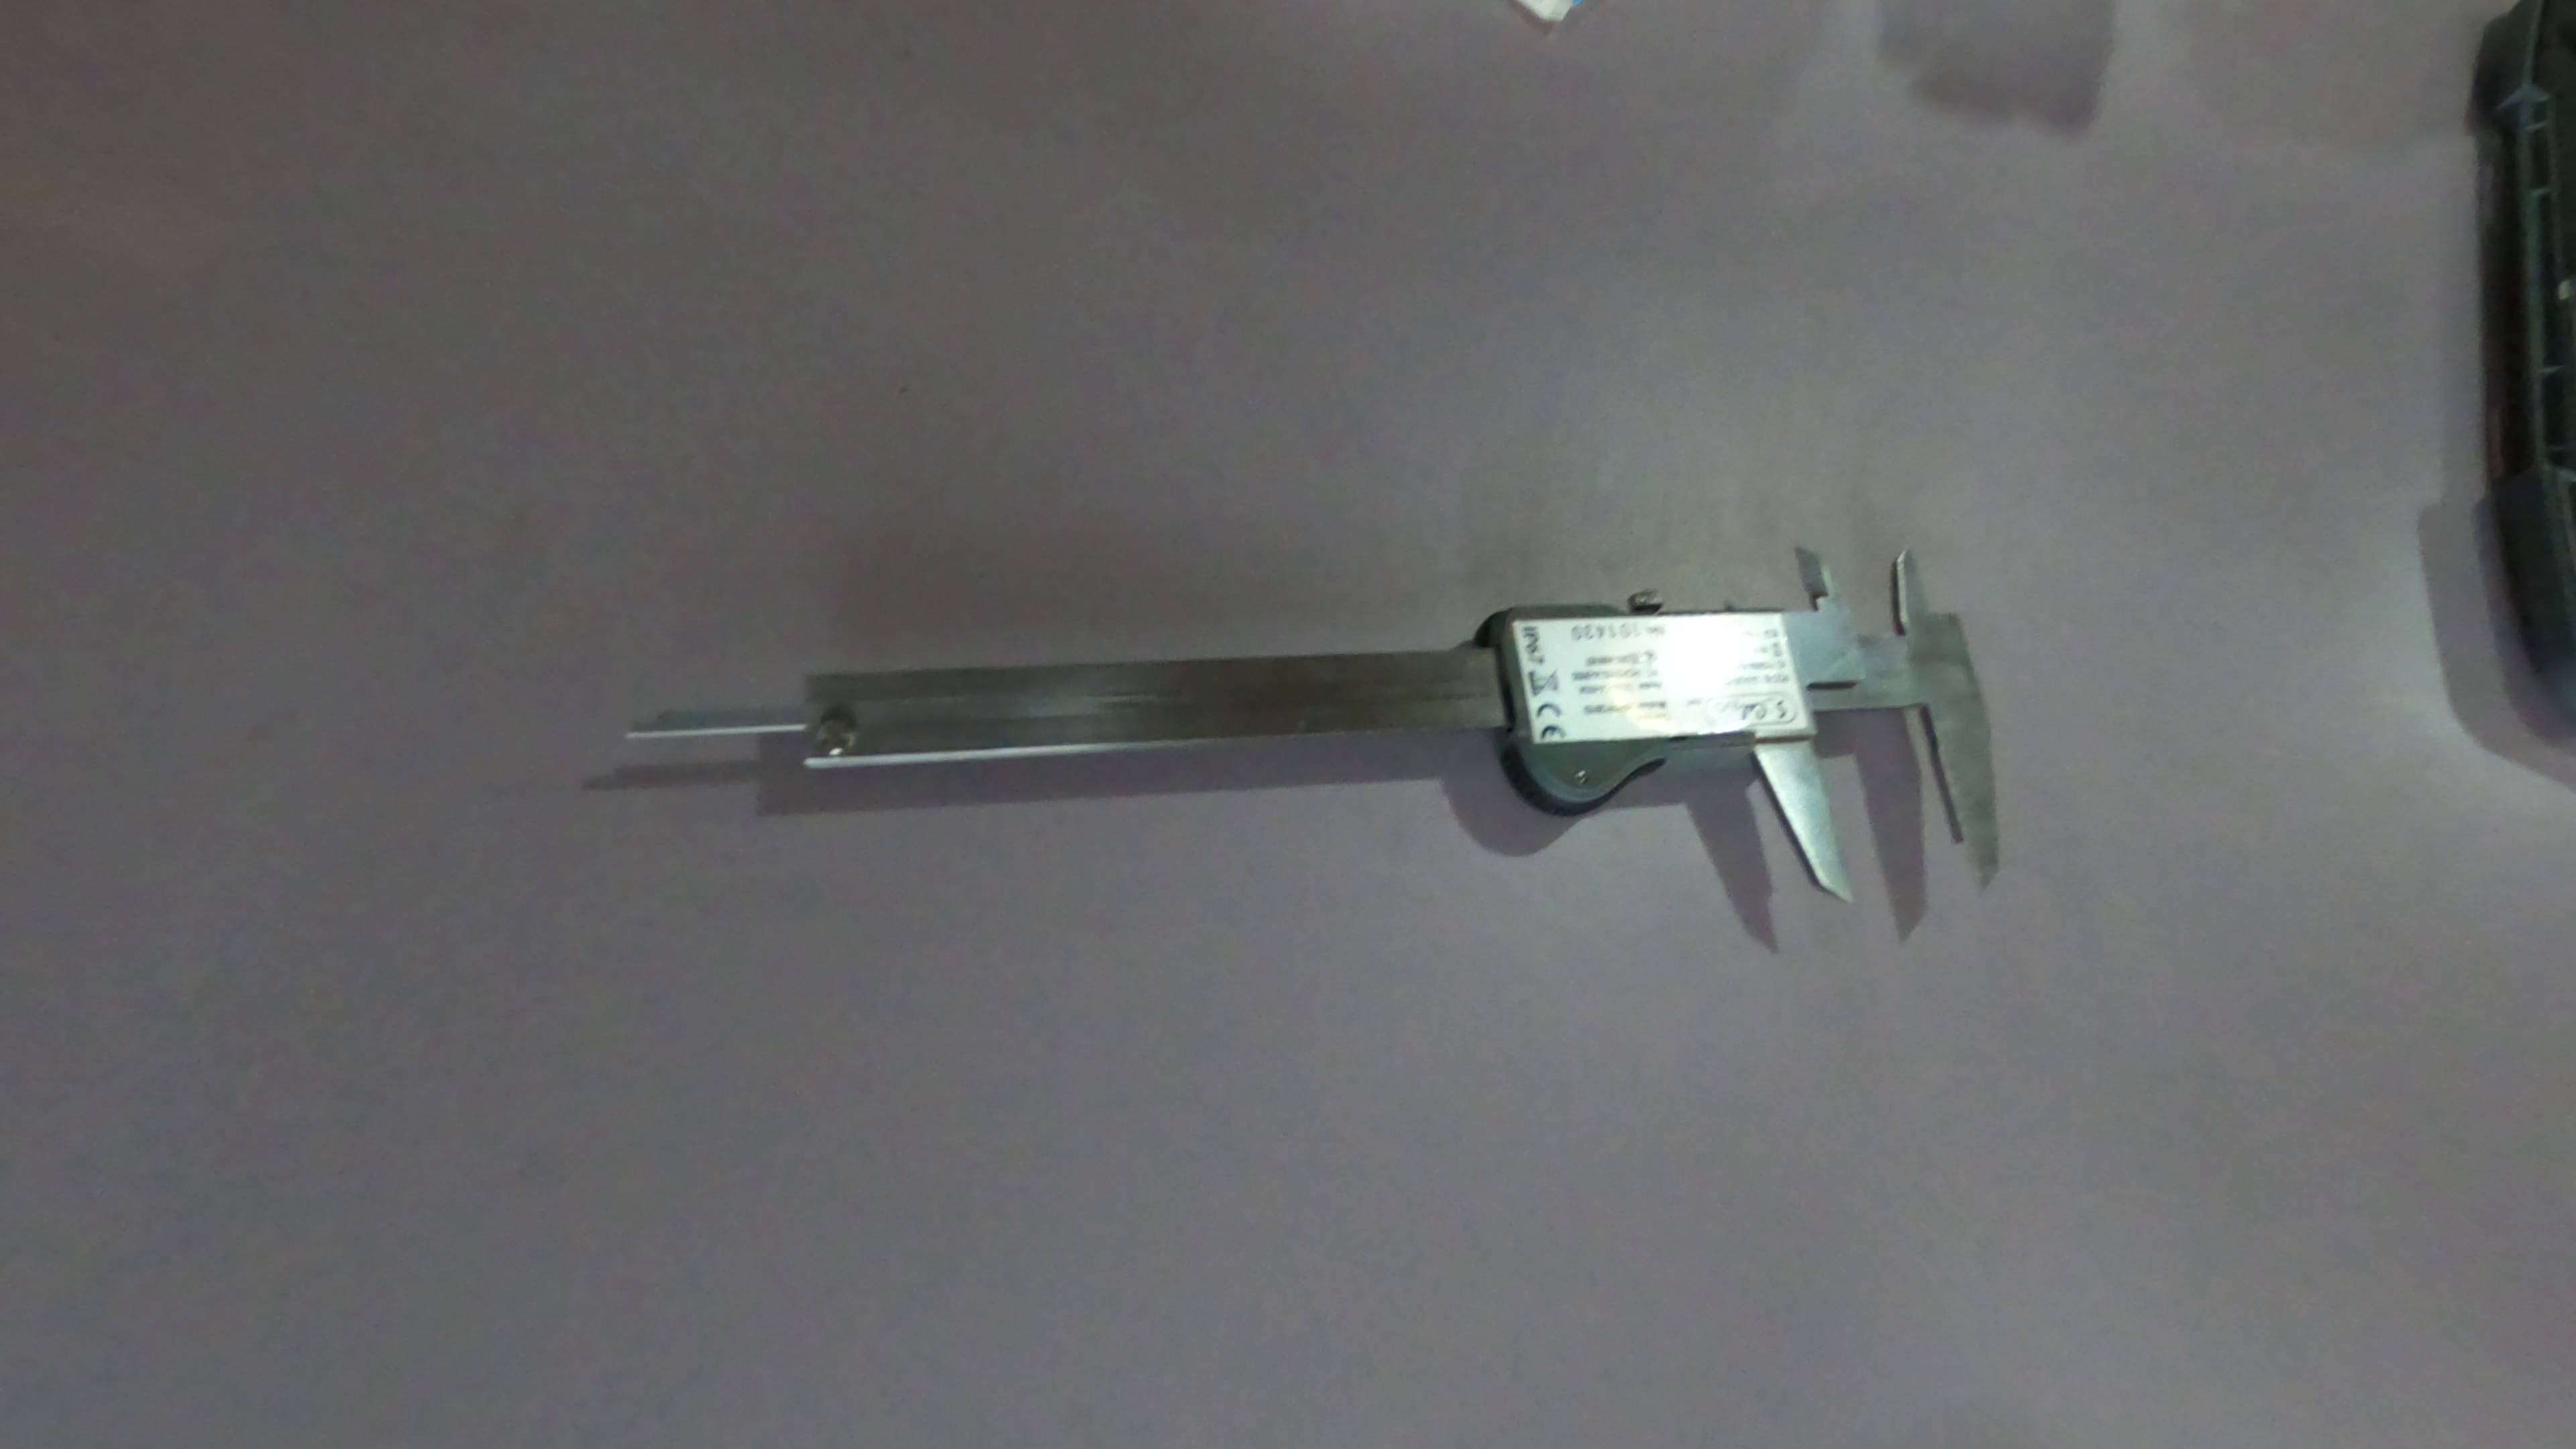vernier_caliper: (610, 541, 1994, 892)
